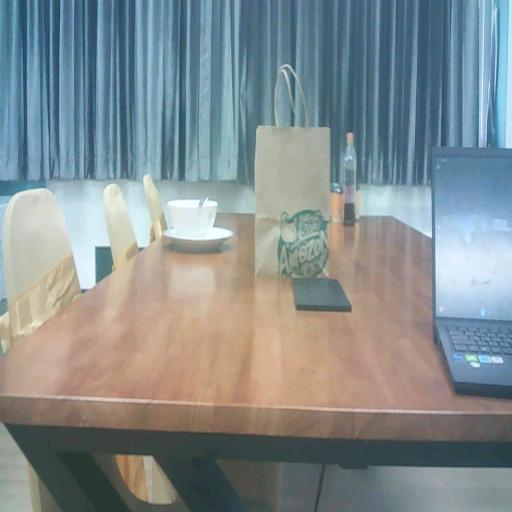bag: (252, 117, 336, 289)
